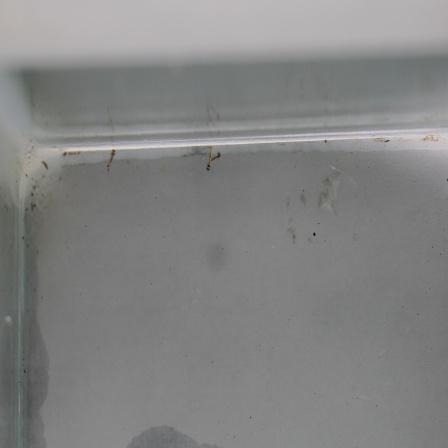Jentik-Nyamuk: (200, 146, 227, 176), (101, 144, 122, 174)
